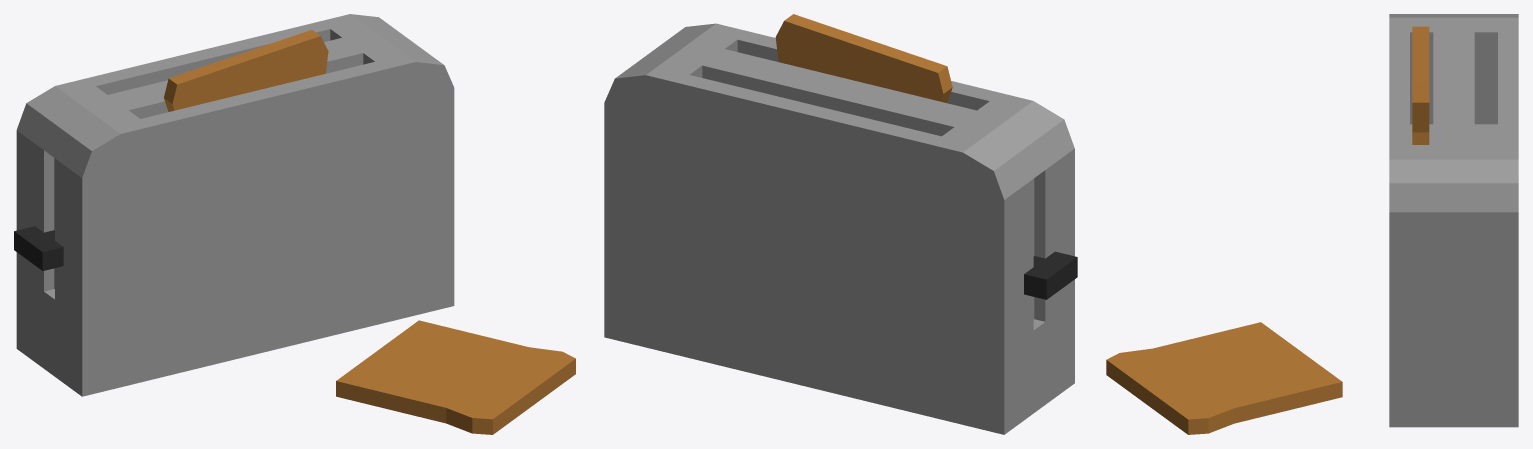
The model's file is Toster.fbx.
The picture shows the model from 3 angles, left to right: view 1: azimuth 30°, elevation 25°; view 2: azimuth 150°, elevation 25°; view 3: azimuth 270°, elevation 25°; orthographic projection. The views are drawn at different scales.
Visible parts, largest first — view 1: Toster, Bread; view 2: Toster; view 3: Toster, Bread.
Part boxes in pixels (x1,y1,x2,y2): Toster: (14,14,454,396); Bread: (336,320,575,434); Toster: (604,14,1077,434); Toster: (1389,14,1518,427); Bread: (1106,322,1342,434).
Bounding box in the file's own units: 100 × 67.45 × 87.89.
